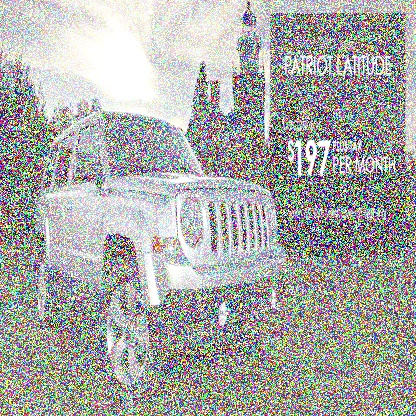Vehicle: (33, 110, 292, 399)
